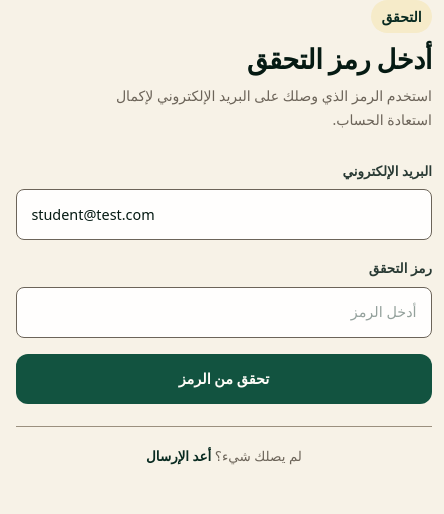
Test case: VerifyOtpComponent › keeps the action enabled and explains a missing OTP after click
What coordinates should you click on to do the following:
click the submit button
I would click on:
 (224, 379)
Its box is 16,354 -> 432,404.
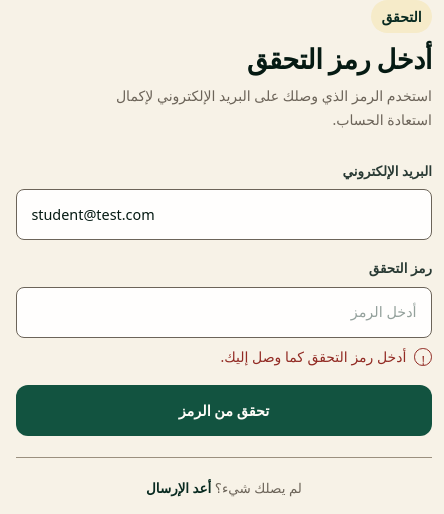
expect the text "أدخل رمز التحقق كما وصل إليك" is shown: met, box 220,347 -> 406,366
